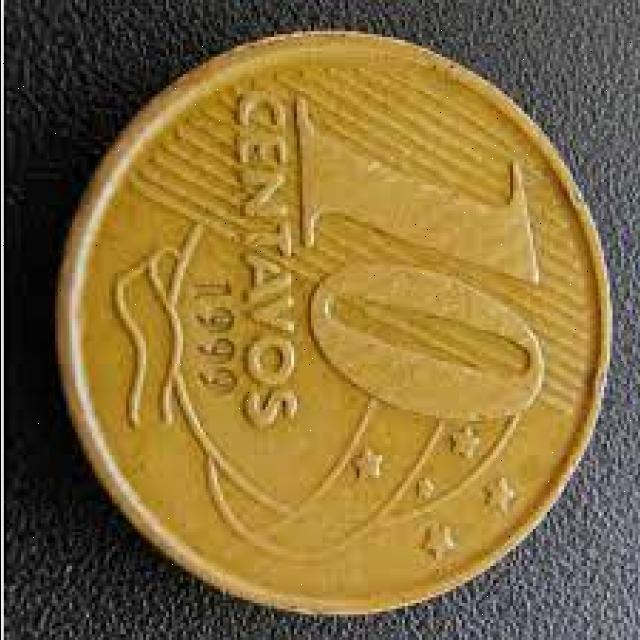10 cent: (63, 55, 610, 604)
